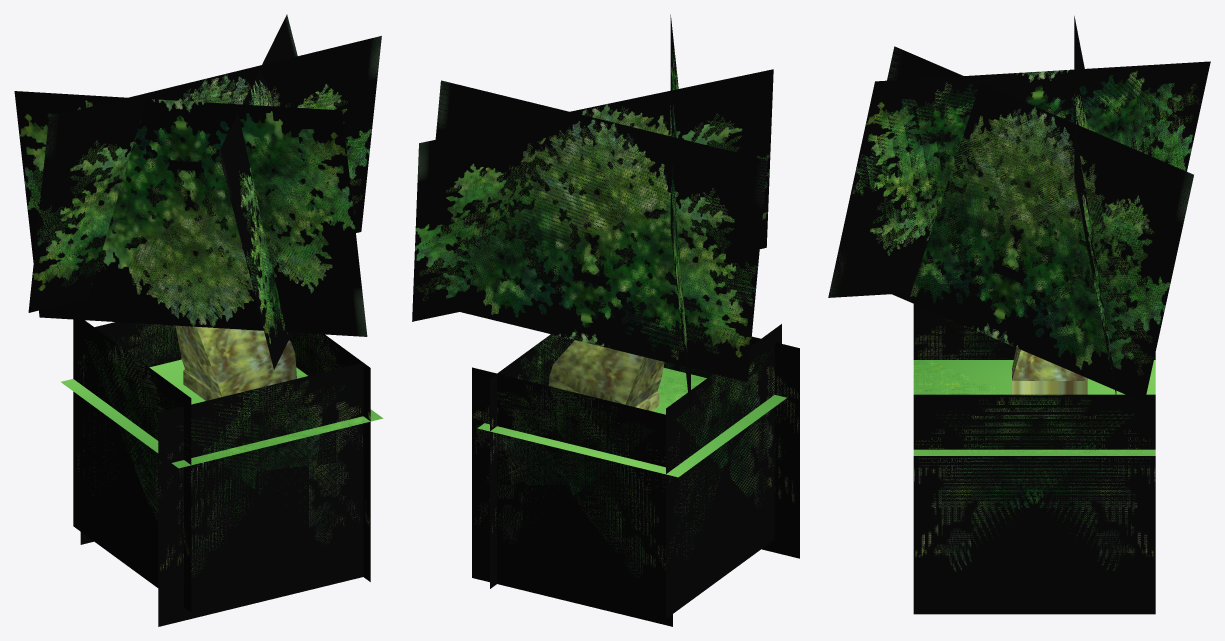
The model's file is floor2.fbx.
The picture shows the model from 3 angles, left to right: view 1: azimuth 30°, elevation 25°; view 2: azimuth 150°, elevation 25°; view 3: azimuth 270°, elevation 25°; orthographic projection. The views are drawn at different scales.
Visible parts, largest first — view 1: leaves6, bush_7, bush_6, leaves1, leaves5, bush, leaves2, bush_2, leaves3, mesh, leaves4, floor (+4 smaller); view 2: leaves1, bush_1, leaves2, bush_3, leaves3, bush, bush_2, bush_6, mesh, floor, leaves4, bush_7 (+4 smaller); view 3: leaves3, bush_4, leaves4, bush_5, leaves5, leaves6, floor, bush, leaves1, mesh, leaves2, bush_2.
Boxes of the visible parts, x1,y1,x2,y2 form: leaves6: (14, 91, 367, 336); bush_7: (158, 363, 363, 626); bush_6: (158, 363, 363, 626); leaves1: (28, 36, 381, 312); leaves5: (24, 99, 346, 327); bush: (73, 319, 191, 612); leaves2: (29, 36, 381, 312); bush_2: (73, 320, 191, 611); leaves3: (219, 14, 297, 369); mesh: (175, 325, 296, 400); leaves4: (219, 16, 296, 366); floor: (61, 359, 383, 468); leaves1: (435, 80, 767, 381); bush_1: (472, 367, 672, 626); leaves2: (436, 81, 767, 381); bush_3: (472, 368, 672, 626); leaves3: (412, 69, 773, 321); bush: (666, 324, 781, 618); bush_2: (666, 324, 781, 617); bush_6: (663, 336, 799, 558); mesh: (548, 340, 664, 410); floor: (477, 367, 786, 477); leaves4: (414, 106, 769, 300); bush_7: (664, 337, 799, 558); leaves3: (887, 46, 1193, 402); bush_4: (913, 394, 1155, 614); leaves4: (888, 47, 1192, 401); bush_5: (913, 394, 1155, 614); leaves5: (828, 61, 1210, 297); leaves6: (829, 61, 1209, 297); floor: (913, 360, 1155, 455); bush: (913, 304, 1155, 359); leaves1: (1074, 16, 1116, 395); mesh: (1012, 348, 1087, 394); leaves2: (1074, 22, 1115, 391); bush_2: (913, 304, 1155, 359).
Size of the model in its own units: 162 by 232 by 158.
Materials: 4 (4 with a texture image).
